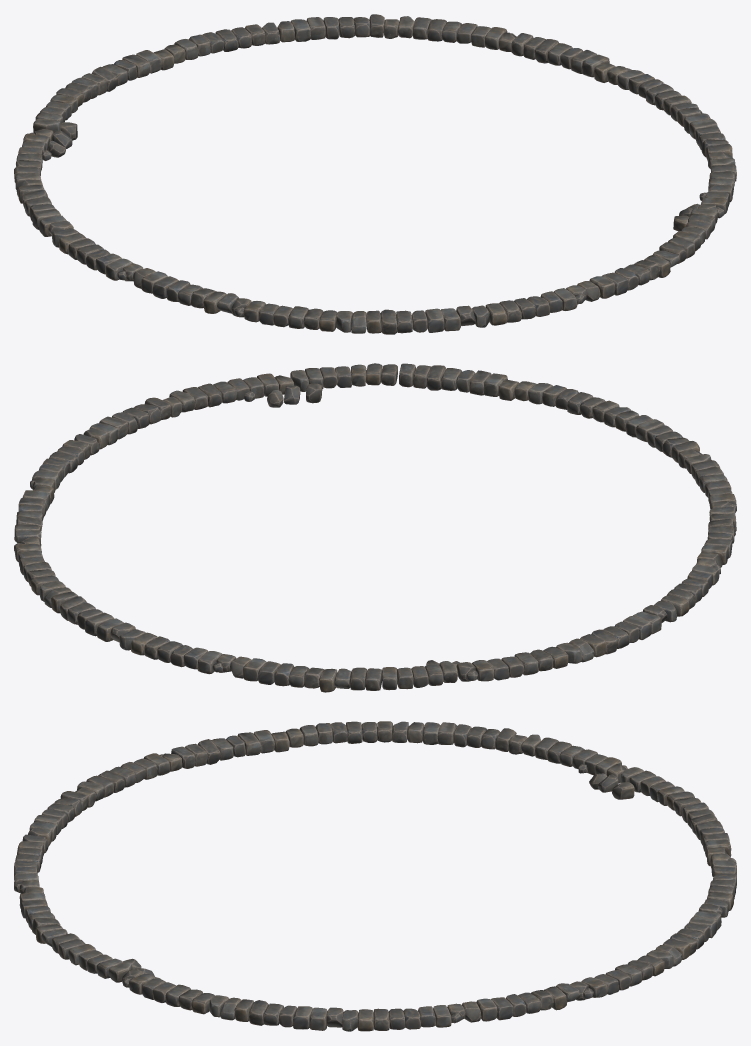
The model's file is stone ring.fbx.
3 views of the same model, one above another, from view 1: azimuth 30°, elevation 25°; view 2: azimuth 150°, elevation 25°; view 3: azimuth 270°, elevation 25° (orthographic). The views are drawn at different scales.
Parts seen in each view (by area): view 1: blocks_012; view 2: blocks_012; view 3: blocks_012.
Boxes of the visible parts, x1,y1,x2,y2 form: blocks_012: (14,14,736,334); blocks_012: (14,363,736,692); blocks_012: (14,721,736,1031).
Bounding box in the file's own units: 2700 × 85.24 × 2751.
